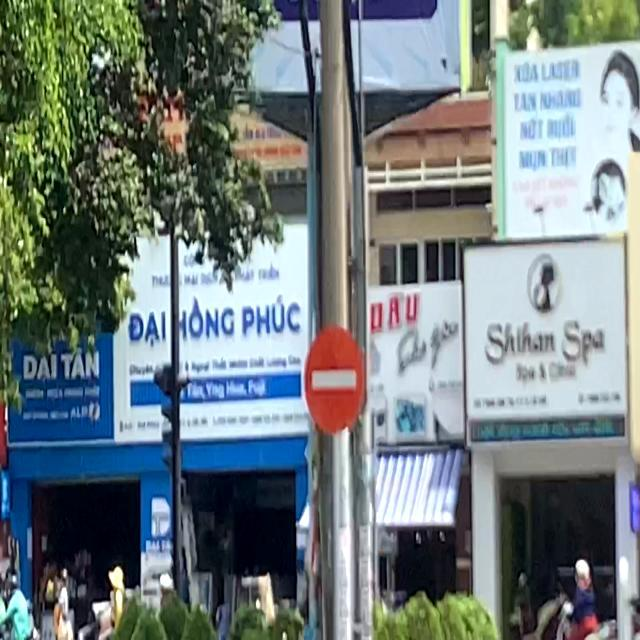Cam di nguoc chieu: (304, 323, 366, 437)
